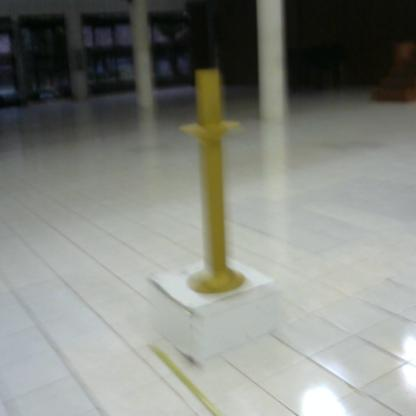pole: (177, 60, 256, 304)
